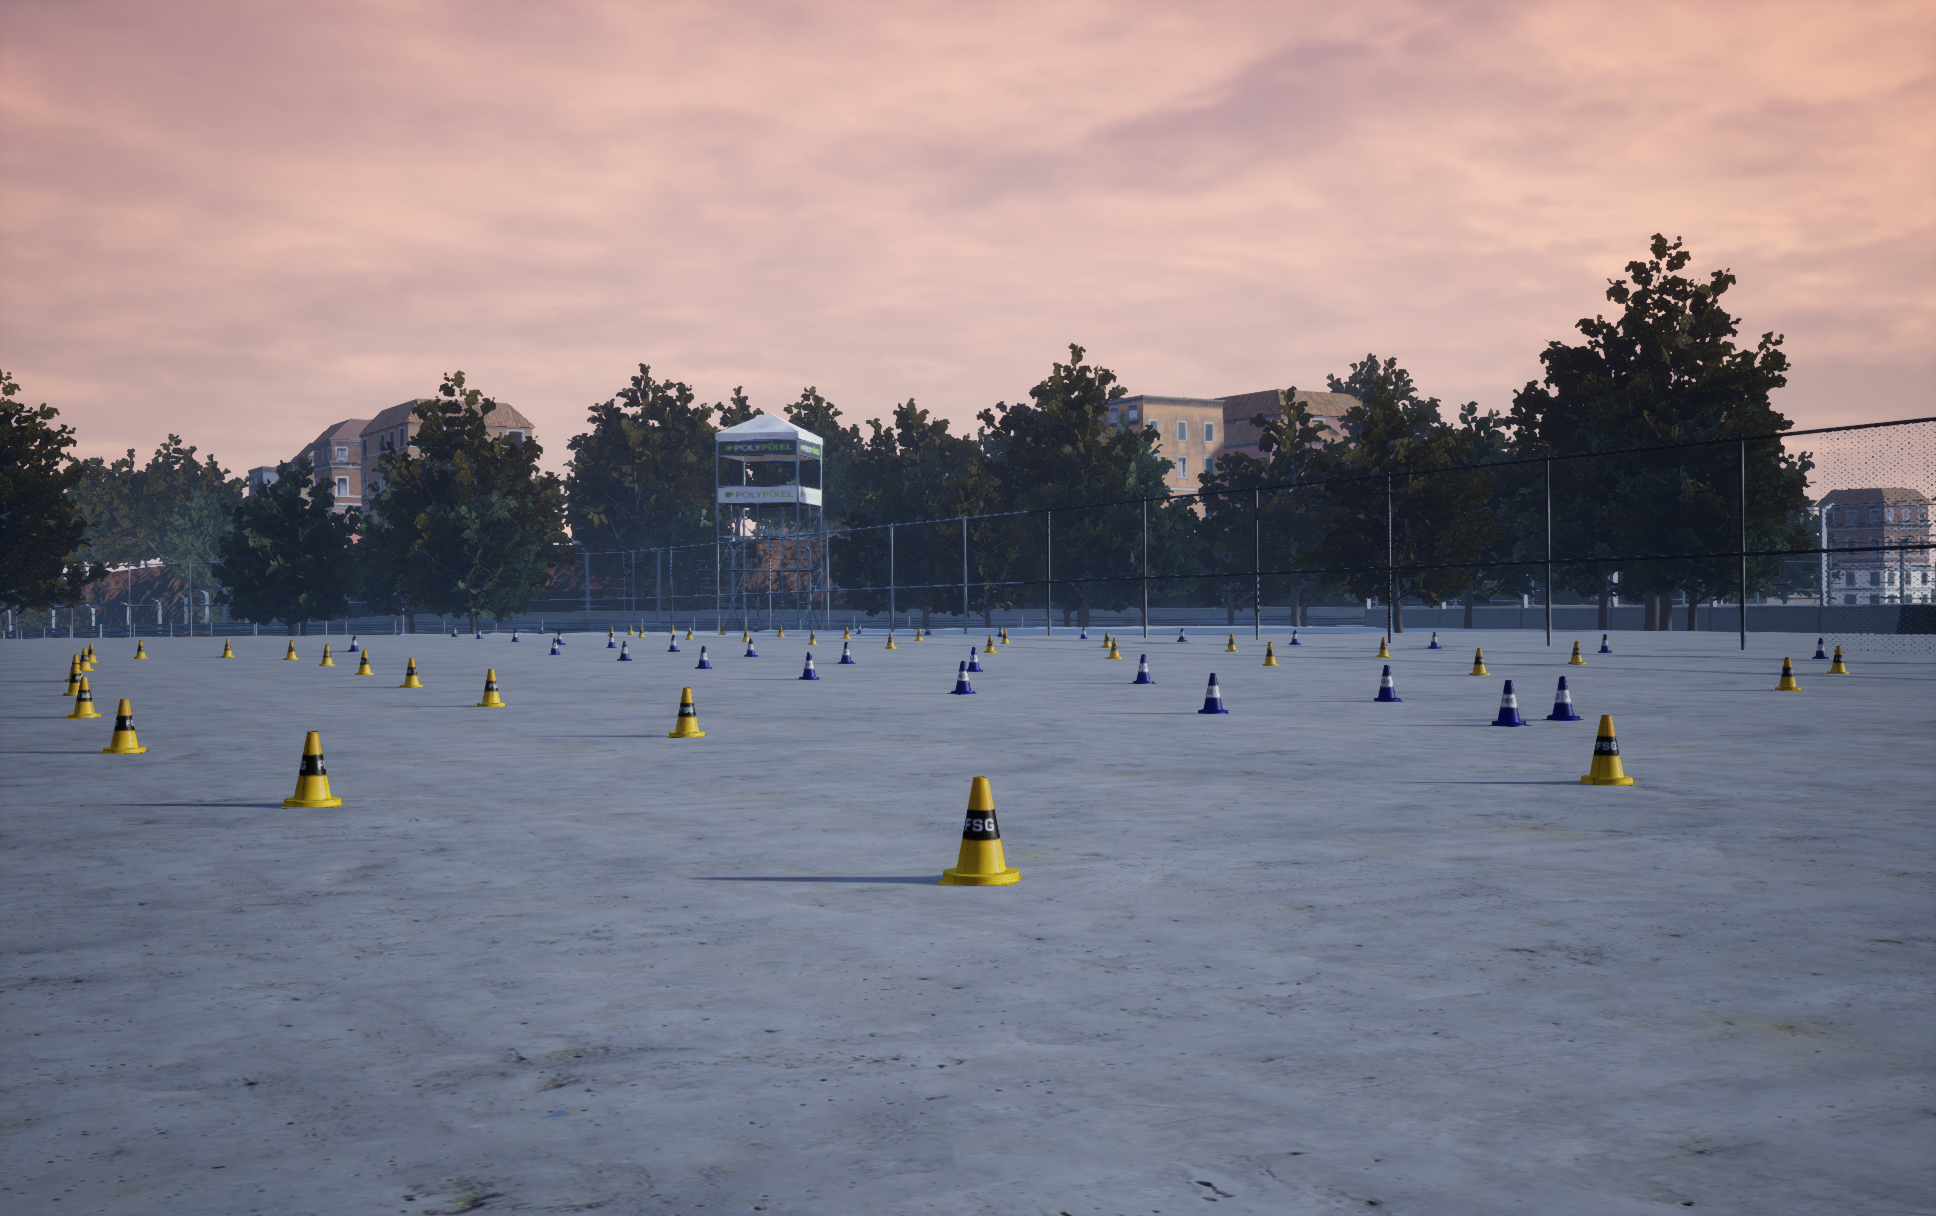blue: (934, 776, 1023, 885), (282, 731, 342, 808), (1580, 714, 1633, 785), (97, 698, 148, 754), (667, 686, 705, 737), (66, 677, 99, 719), (472, 670, 504, 706), (1772, 657, 1800, 691), (398, 658, 424, 686), (1824, 646, 1848, 672), (1468, 649, 1489, 675), (63, 663, 80, 695), (64, 654, 81, 681), (354, 650, 373, 674), (1104, 637, 1123, 658), (1568, 642, 1584, 664), (1262, 642, 1278, 665), (282, 640, 300, 658), (80, 649, 95, 670), (1376, 637, 1391, 657), (319, 644, 333, 665), (88, 643, 99, 663), (1224, 635, 1237, 651), (983, 635, 996, 651)
yellow: (1486, 679, 1531, 726), (1542, 677, 1583, 720), (1198, 672, 1229, 713), (1374, 665, 1404, 700), (947, 661, 976, 693), (1129, 654, 1156, 684), (798, 651, 820, 679), (836, 642, 855, 663), (695, 646, 712, 668), (967, 647, 982, 671), (1811, 637, 1828, 658), (616, 642, 630, 660), (744, 637, 756, 656), (1598, 635, 1611, 651)
